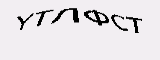Ү: (15, 12, 34, 32)
